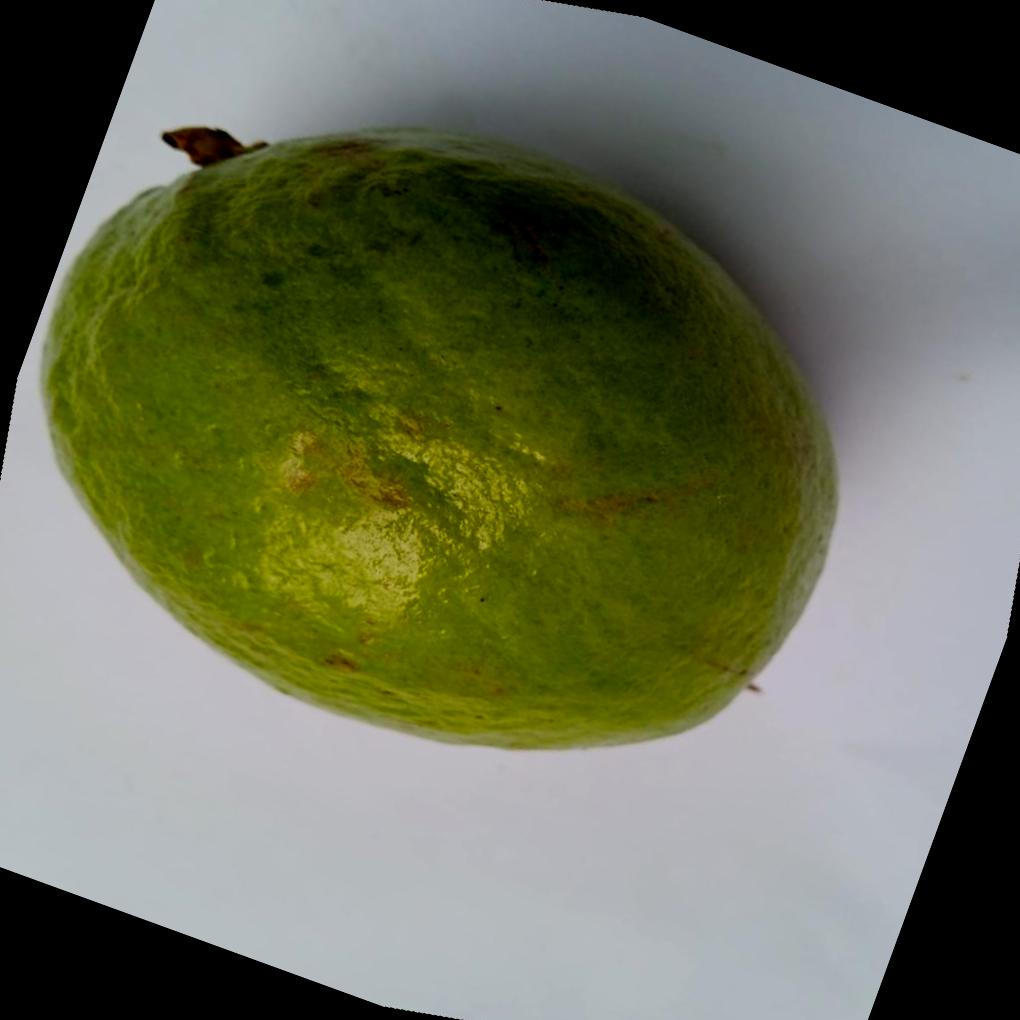FreshGuava: (38, 122, 841, 749)
